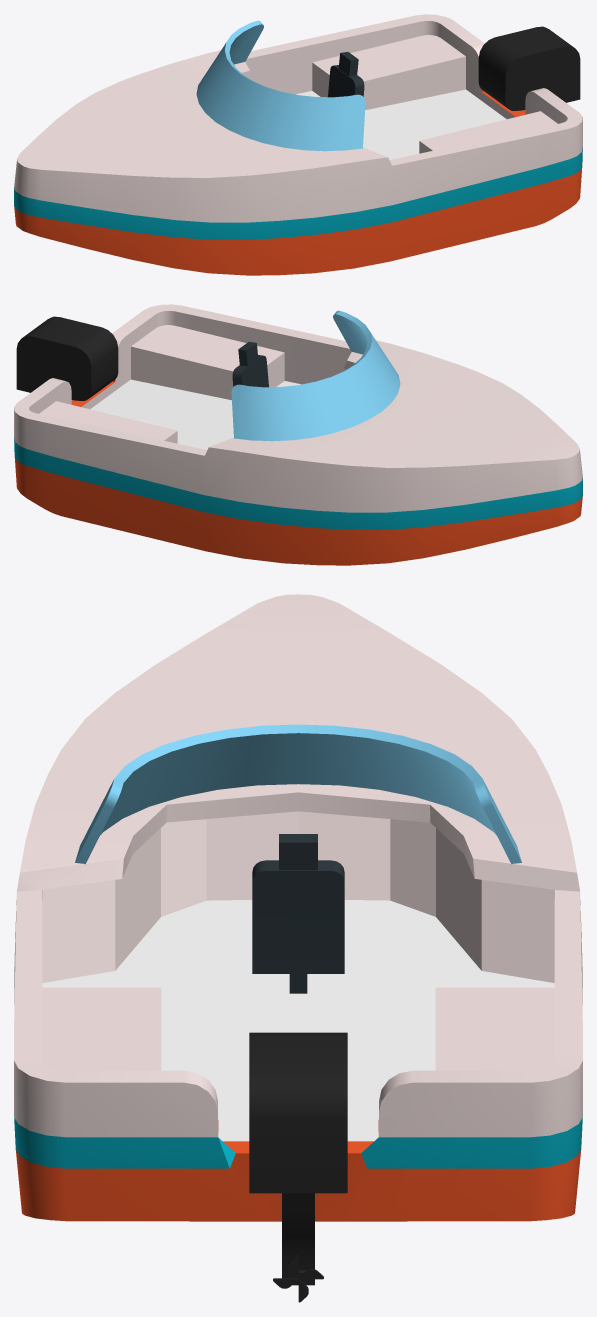
File: speedboat.fbx
The picture shows the model from 3 angles, top to bottom: view 1: azimuth 30°, elevation 25°; view 2: azimuth 150°, elevation 25°; view 3: azimuth 270°, elevation 25°; orthographic projection. The views are drawn at different scales.
Parts seen in each view (by area): view 1: Cube.780; view 2: Cube.780; view 3: Cube.780.
Boxes of the visible parts, x1,y1,x2,y2 form: Cube.780: (14,14,582,275); Cube.780: (14,304,582,565); Cube.780: (14,594,582,1302).
Size of the model in its own units: 228 by 64.01 by 111.
1 material, 1 textured.
